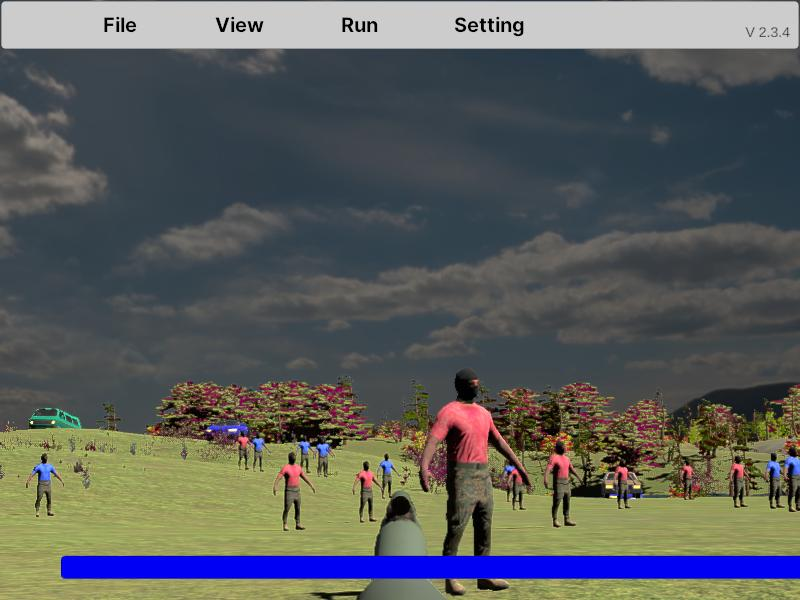Human: (420, 365, 527, 596), (274, 451, 316, 531), (273, 452, 315, 531), (545, 441, 583, 527), (27, 453, 64, 518), (352, 460, 382, 524), (508, 458, 531, 512), (765, 451, 785, 509), (730, 455, 751, 509), (377, 452, 399, 500), (784, 448, 800, 513), (614, 459, 634, 511), (681, 458, 696, 501)
car: (29, 407, 81, 437), (600, 465, 640, 502), (598, 466, 639, 501), (203, 418, 250, 443)
